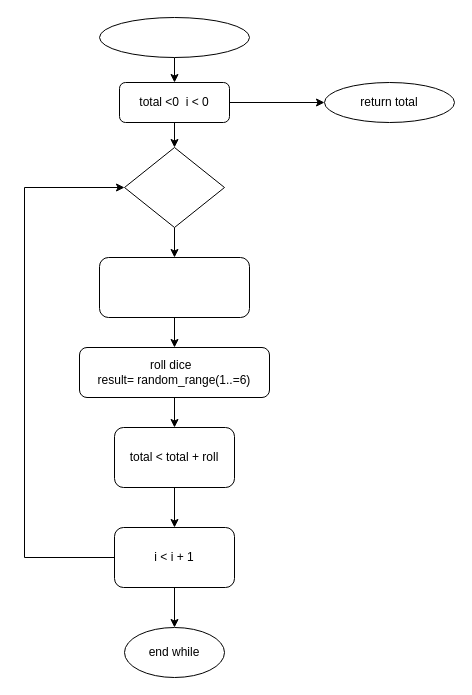
The diagram is 472 pixels wide and 695 high, and some of its shapes have lost their labels. Each missing label, with the centre of its shape:
"calculate current seed current seed = seed + 1" belongs at (x=174, y=287).
"Function roll_many" belongs at (x=174, y=37).
"i < count ?" belongs at (x=174, y=187).
